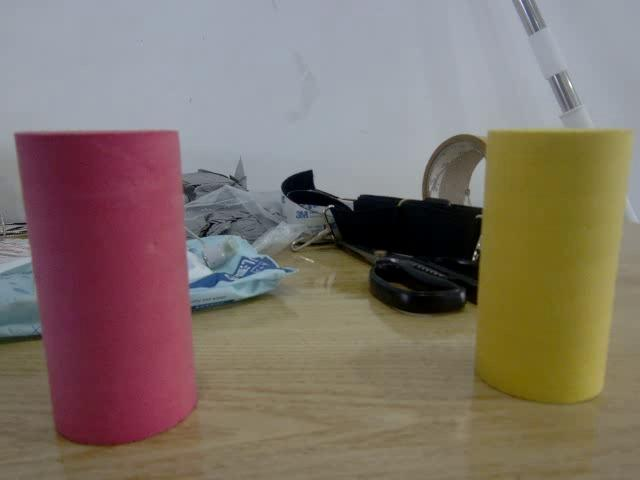red_cylinder: (15, 128, 196, 448)
yellow_cylinder: (475, 126, 633, 404)
